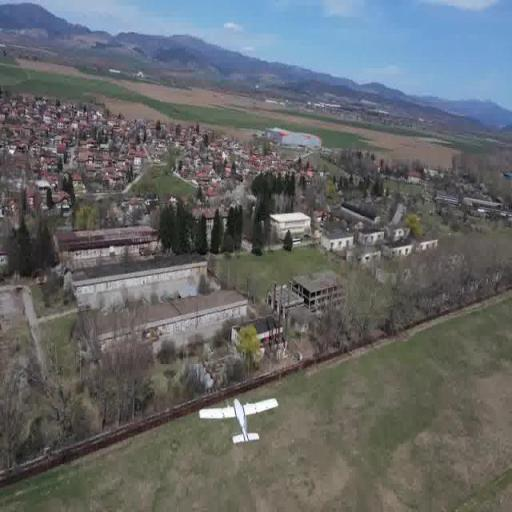uav: (197, 394, 280, 453)
